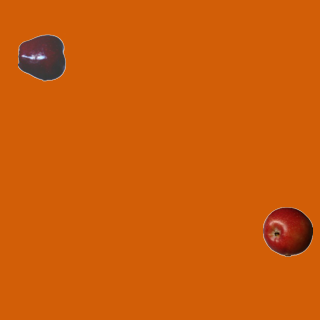Apple Braeburn: (262, 206, 312, 256)
Apple Red Delicious: (17, 32, 67, 82)
